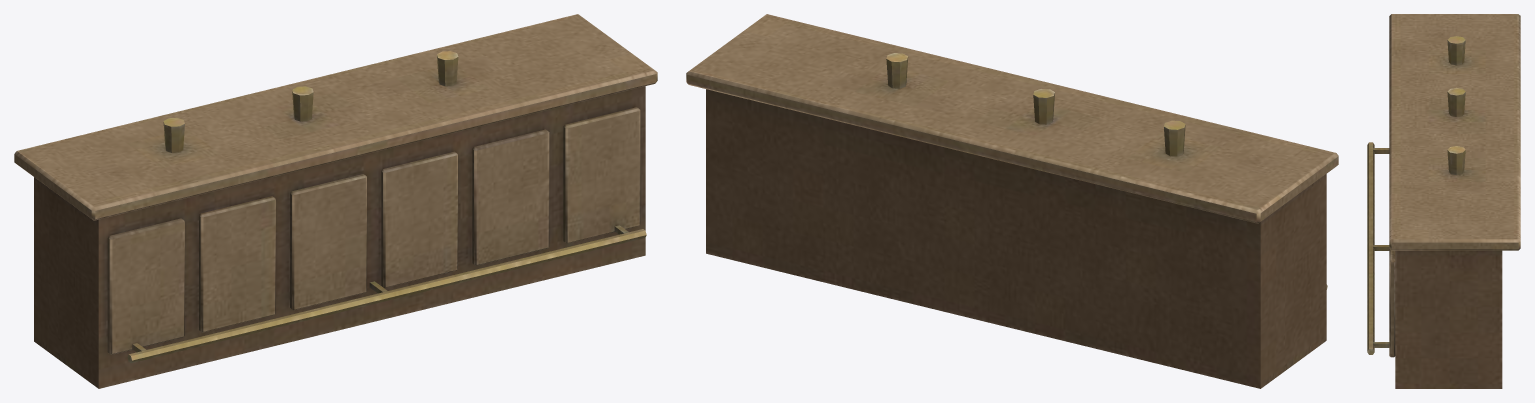
Rendered from balcao.glb.
3 views of the same model, side by side, from view 1: azimuth 30°, elevation 25°; view 2: azimuth 150°, elevation 25°; view 3: azimuth 270°, elevation 25° (orthographic). The views are drawn at different scales.
Parts seen in each view (by area): view 1: balcao; view 2: balcao; view 3: balcao.
Boxes of the visible parts, x1,y1,x2,y2 form: balcao: (14, 14, 657, 388); balcao: (686, 14, 1338, 388); balcao: (1367, 14, 1520, 388).
Size of the model in its own units: 3.52 by 1.26 by 1.
Materials: 1 (1 with a texture image).
